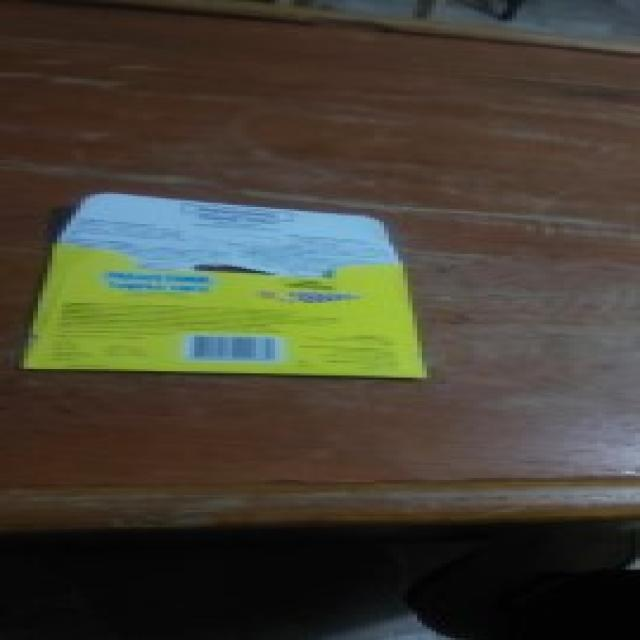Cacat: (24, 188, 431, 382)
